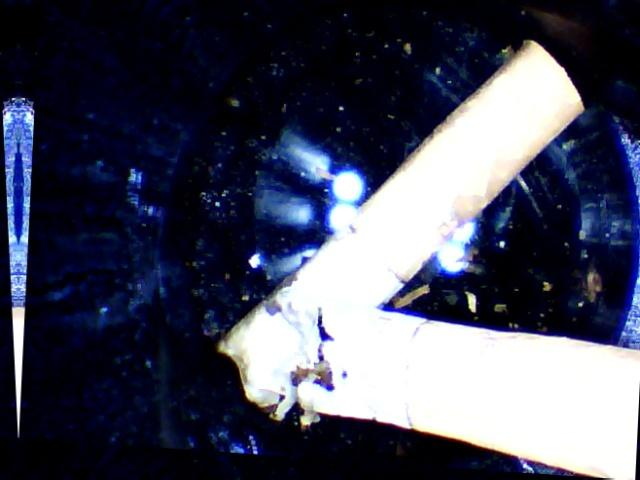megot: (203, 13, 588, 452), (284, 283, 639, 479)
